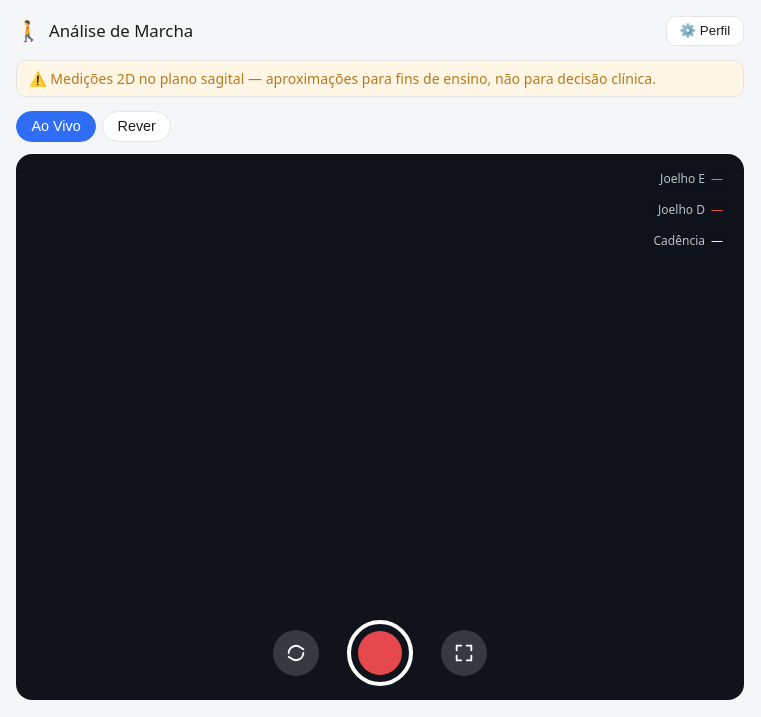
App › alterna para o modo Rever quando não há clip mostra aviso
Click the button "Rever": (137,126) [102,111,171,142]
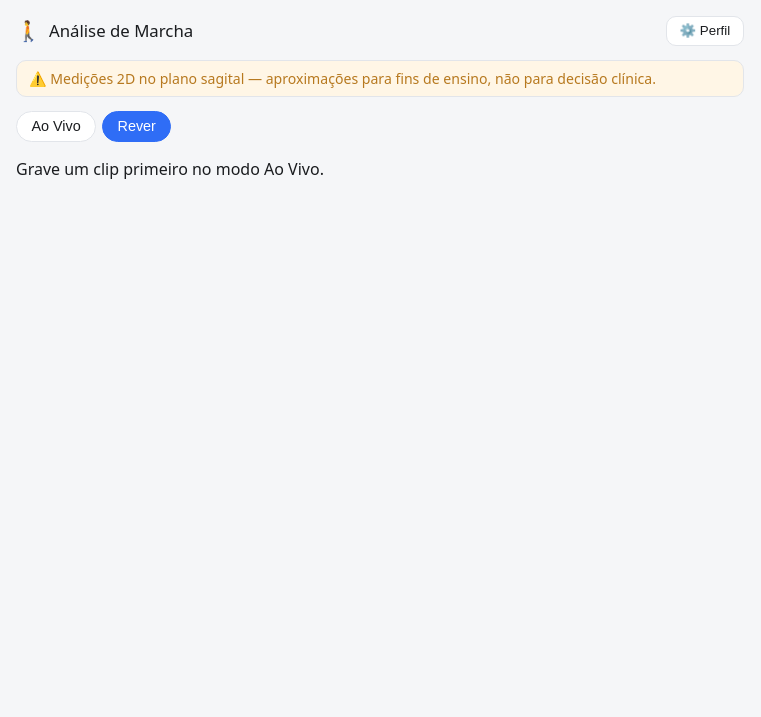
Check: the text "Grave um clip primeiro no modo Ao Vivo." is shown, box [16,158,324,180]
